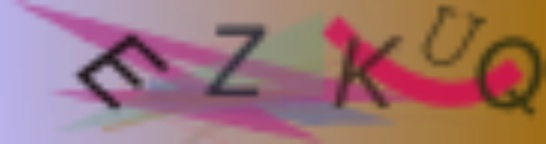E: (76, 30, 170, 112)
K: (328, 33, 408, 113)
Q: (474, 33, 546, 117)
U: (420, 5, 488, 67)
Z: (202, 22, 269, 100)
